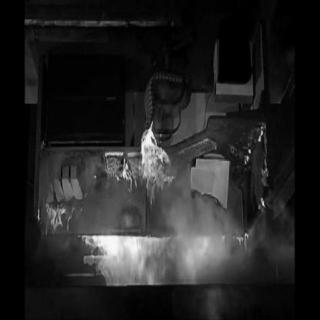Fire: (43, 193, 89, 231)
